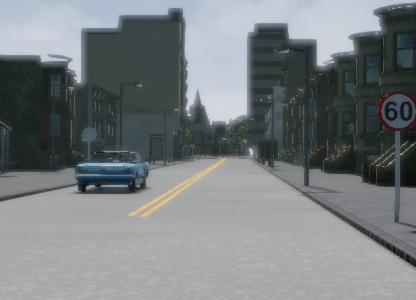Speed_60: (374, 87, 416, 135)
